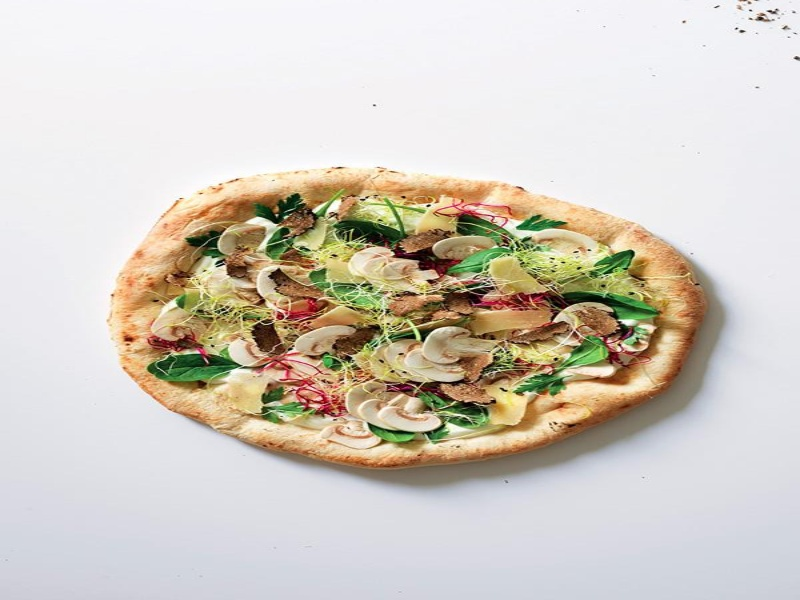champignon: (281, 319, 364, 362), (421, 324, 501, 365), (380, 395, 445, 435), (430, 232, 500, 265), (319, 418, 388, 451)
